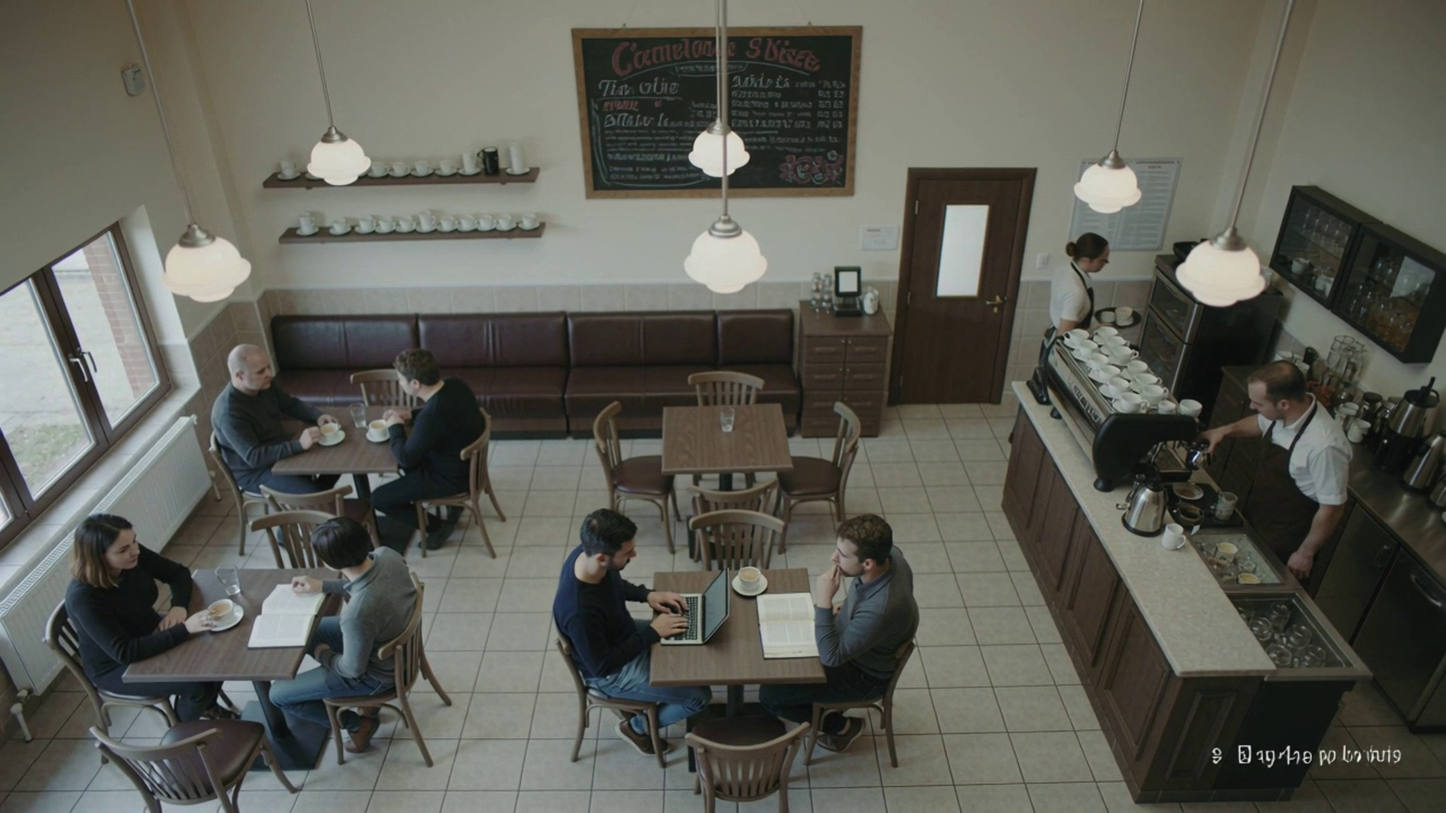employé: (651, 560, 819, 728), (182, 544, 313, 721), (666, 376, 794, 523), (294, 378, 404, 502)
employé actif: (653, 392, 818, 493)
machine: (1029, 322, 1189, 527)
